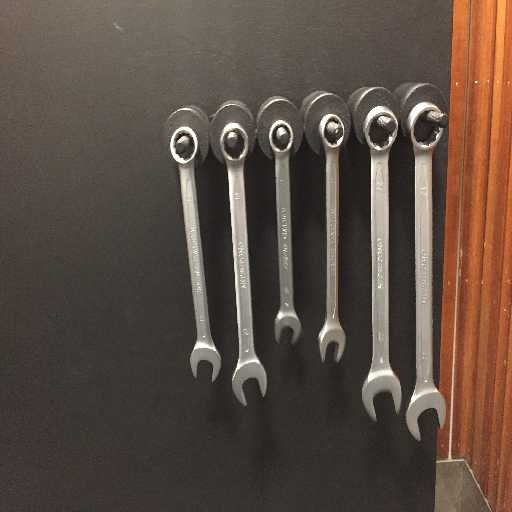bottom: (359, 366, 404, 422), (406, 384, 447, 443), (231, 358, 269, 407), (187, 339, 222, 383), (317, 319, 347, 365), (273, 307, 303, 347)
top: (405, 99, 445, 155), (360, 104, 399, 154), (217, 123, 250, 164), (317, 111, 348, 151), (267, 118, 297, 156), (169, 125, 198, 164)
